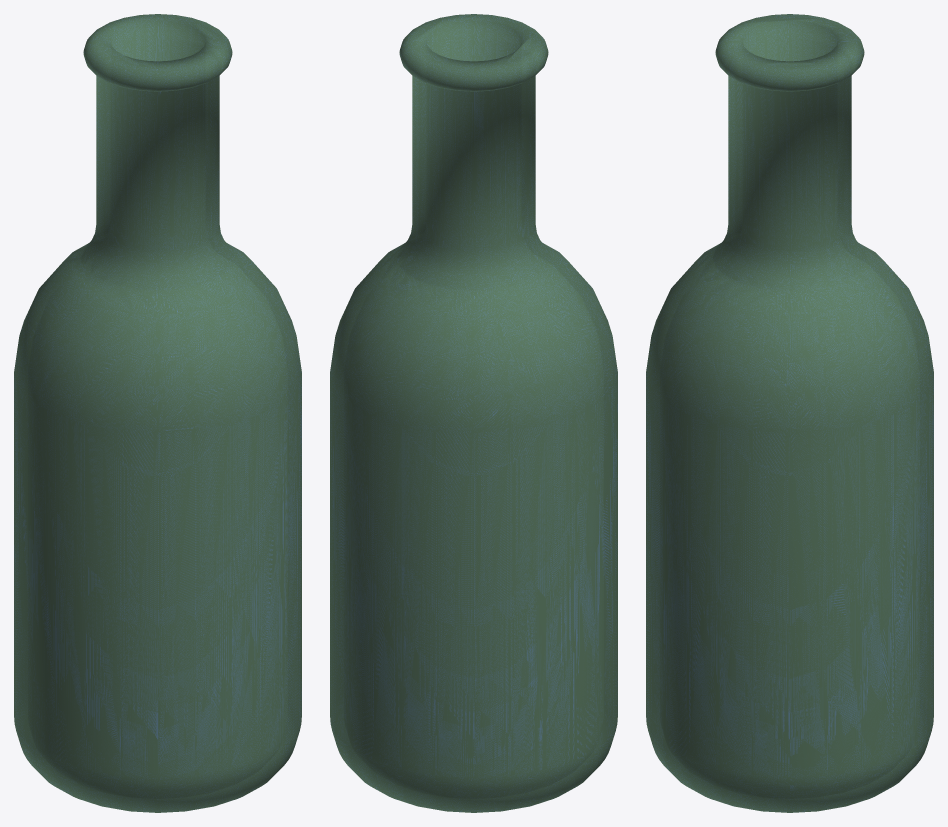
3 views of the same model, side by side, from view 1: azimuth 30°, elevation 25°; view 2: azimuth 150°, elevation 25°; view 3: azimuth 270°, elevation 25° (orthographic).
Visible parts, largest first — view 1: group_0 (×2); view 2: group_0 (×2); view 3: group_0 (×2).
Part boxes in pixels (bbox=[...]): group_0 (×2): bbox=[14, 14, 301, 812]; group_0 (×2): bbox=[330, 14, 617, 812]; group_0 (×2): bbox=[646, 14, 933, 812].
Bounding box in the file's own units: 2.2 × 2.2 × 6.18.
